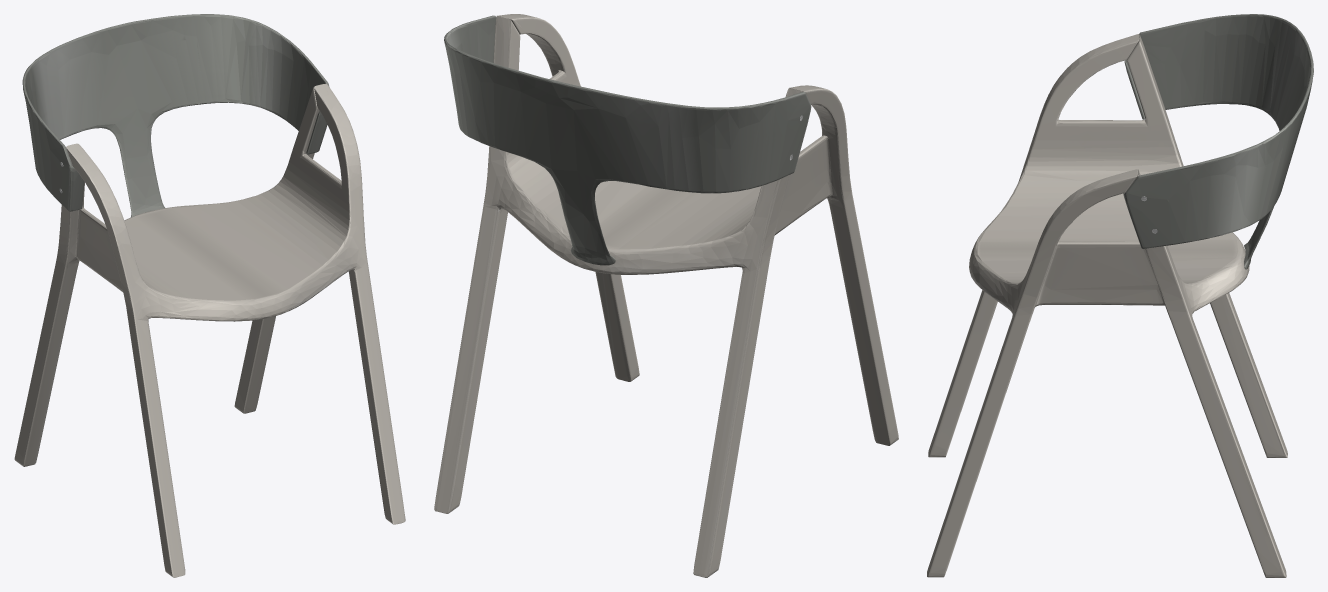
3 renders of one model, left to right at view 1: azimuth 30°, elevation 25°; view 2: azimuth 150°, elevation 25°; view 3: azimuth 270°, elevation 25°, orthographic. The views are drawn at different scales.
Visible parts, largest first — view 1: solid_001_wire; view 2: solid_001_wire; view 3: solid_001_wire.
Part boxes in pixels (x1,y1,x2,y2): solid_001_wire: [14, 14, 405, 577]; solid_001_wire: [434, 14, 898, 577]; solid_001_wire: [927, 14, 1313, 577].
Size of the model in its own units: 0.5364 by 0.7687 by 0.6022.
1 material, 1 textured.
